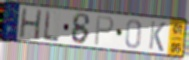0: (124, 19, 143, 50)
8: (71, 12, 92, 46)
H: (17, 8, 43, 42)
K: (147, 20, 167, 53)
L: (43, 9, 60, 43)
P: (93, 14, 115, 47)
